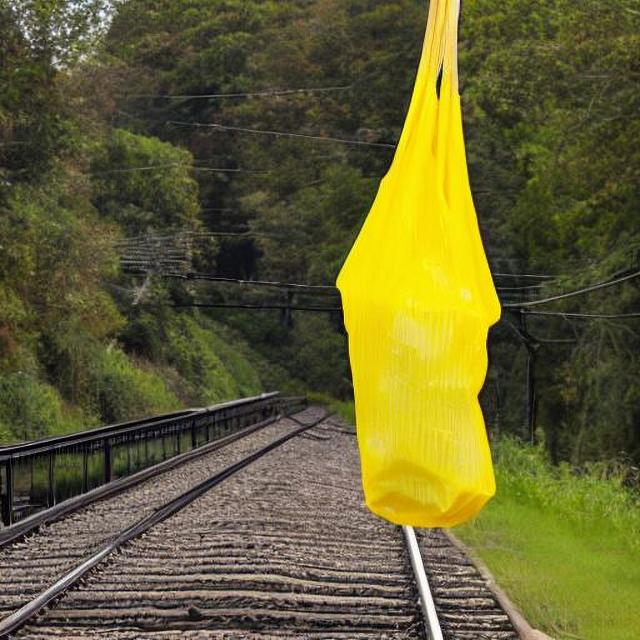floating object: (338, 7, 504, 532)
